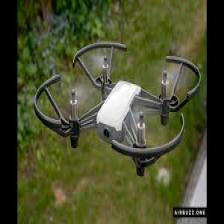drone: (33, 41, 201, 177)
